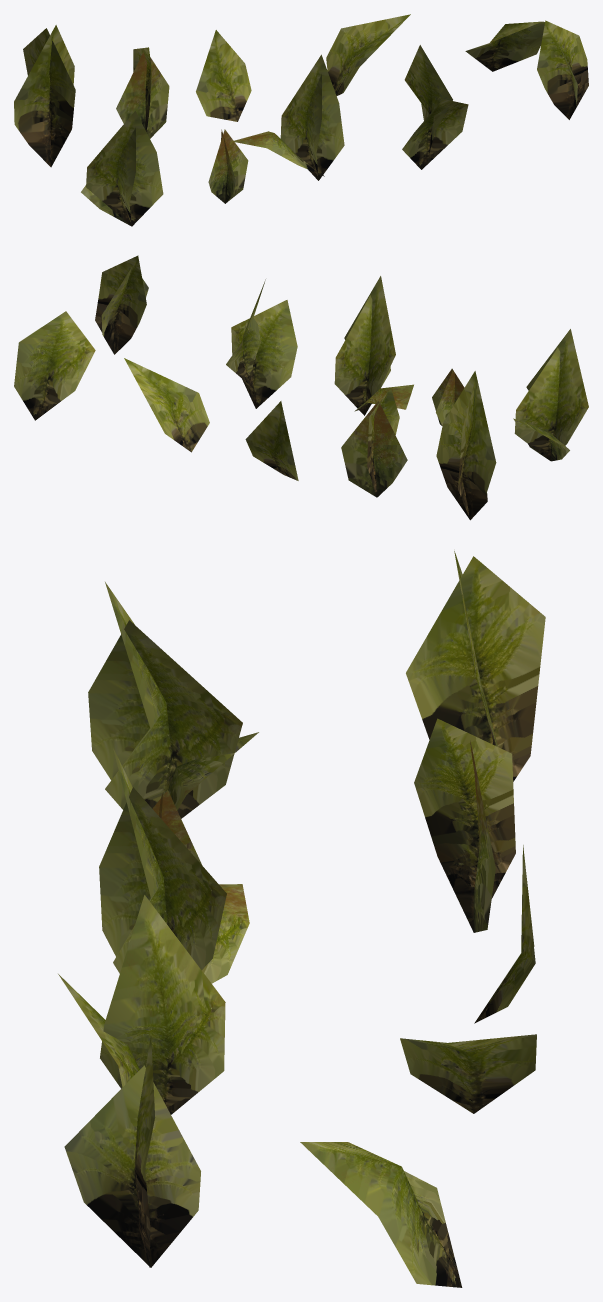
The model's file is moss_01_2k.glb.
The picture shows the model from 3 angles, top to bottom: view 1: azimuth 30°, elevation 25°; view 2: azimuth 150°, elevation 25°; view 3: azimuth 270°, elevation 25°; orthographic projection. The views are drawn at different scales.
Bounding box in the file's own units: 0.1109 × 0.0335 × 0.0454.
1 material, 1 textured.
